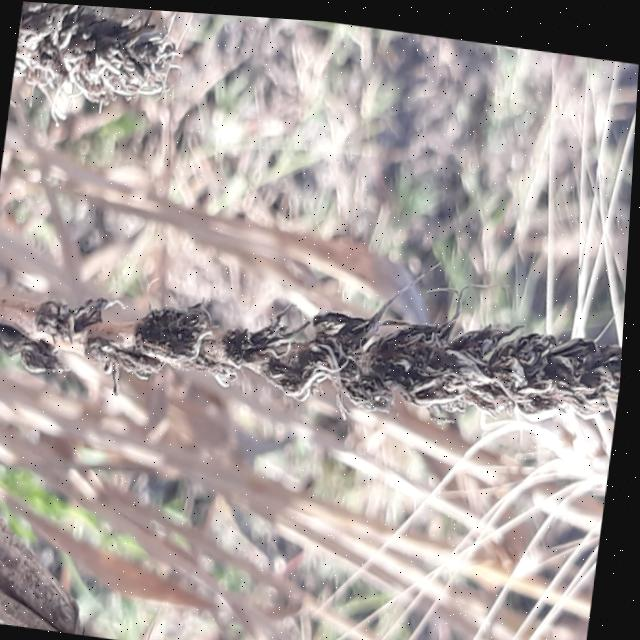loose_charred: (0, 200, 631, 489), (7, 1, 192, 141), (0, 475, 132, 636)
